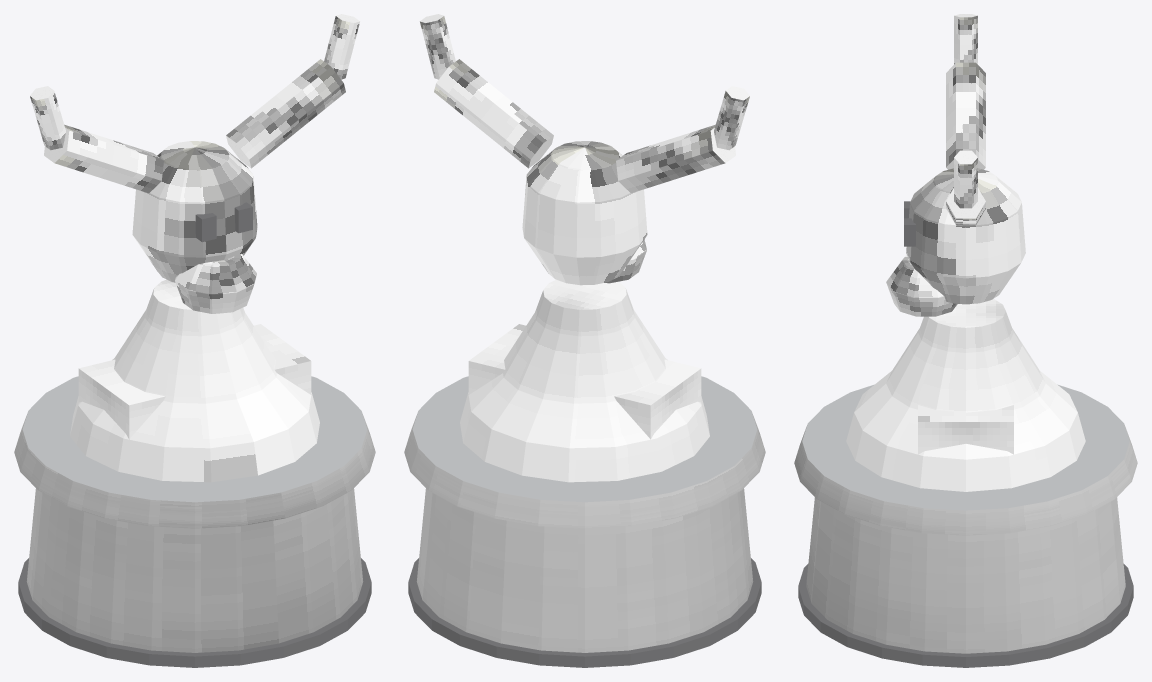
Rendered from Building_SculptureSmall__BustB.glb.
3 views of the same model, side by side, from view 1: azimuth 30°, elevation 25°; view 2: azimuth 150°, elevation 25°; view 3: azimuth 270°, elevation 25° (orthographic). The views are drawn at different scales.
Parts seen in each view (by area): view 1: SculptureSmall__BustB; view 2: SculptureSmall__BustB; view 3: SculptureSmall__BustB.
Part boxes in pixels (bbox=[...]): SculptureSmall__BustB: bbox=[14, 14, 375, 667]; SculptureSmall__BustB: bbox=[404, 14, 765, 667]; SculptureSmall__BustB: bbox=[794, 14, 1137, 667].
Size of the model in its own units: 0.89 by 1.42 by 0.86.
1 material, 1 textured.
